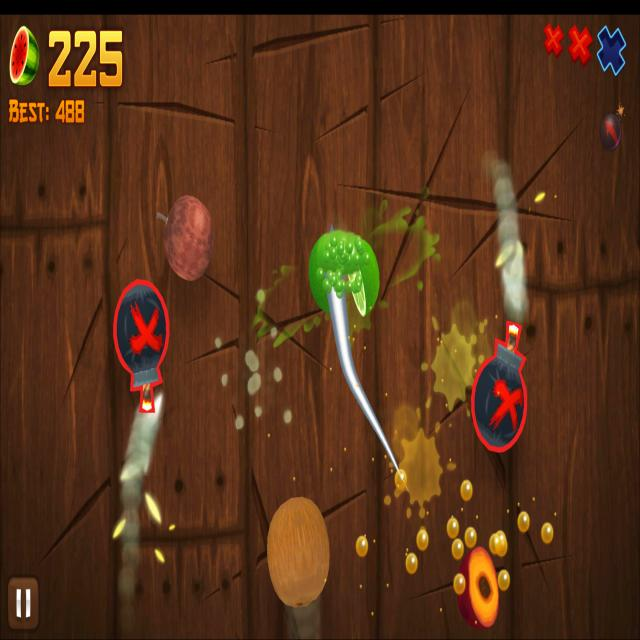bomb: (112, 278, 170, 414), (469, 320, 528, 453)
fruit: (267, 496, 330, 607), (164, 192, 213, 281)
